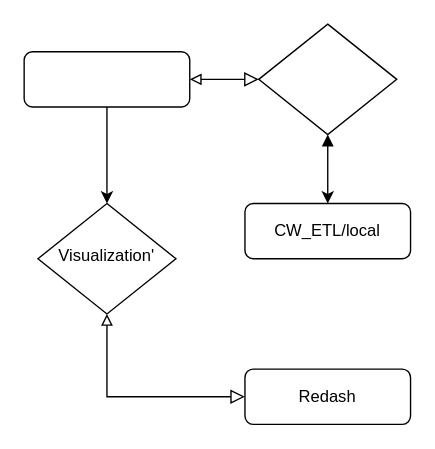
This 435x449 diagram has some shape labels left out. The shapes that lost their labels are listed below. From the top down, each one's centre as x and y in pixels, then its label:
At point 106,78: "MySQL - CW".
At point 327,79: "ETL".
